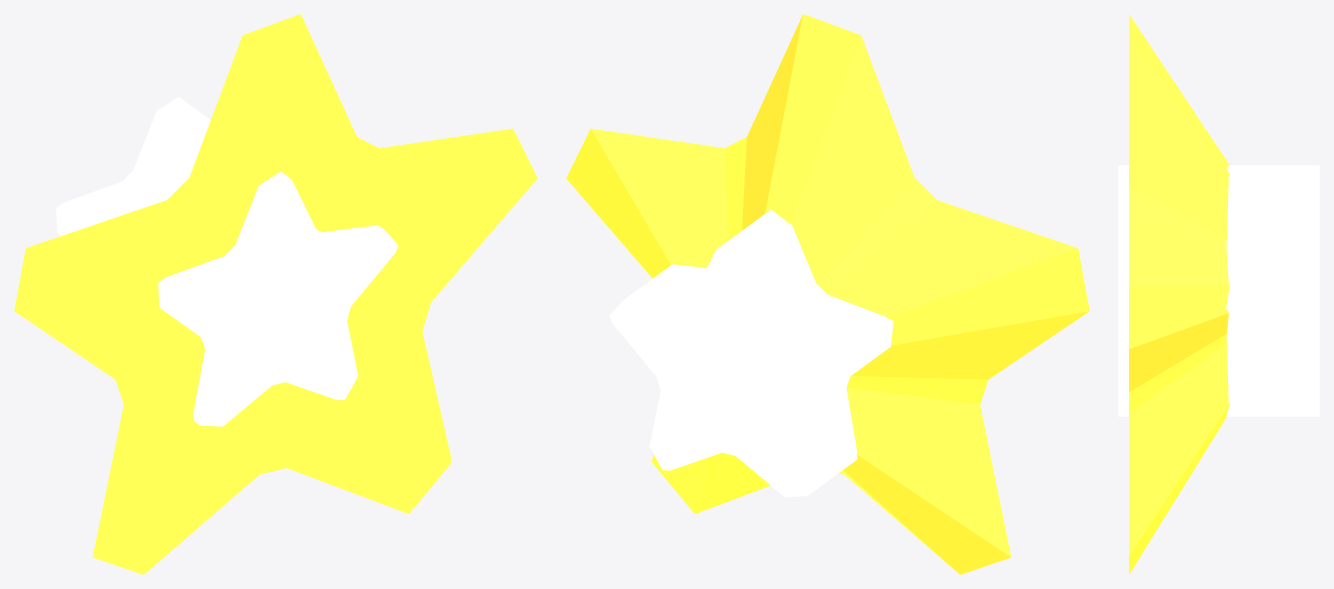
Rendered from star_v2.glb.
3 renders of one model, left to right at view 1: azimuth 30°, elevation 25°; view 2: azimuth 150°, elevation 25°; view 3: azimuth 270°, elevation 25°, orthographic. The views are drawn at different scales.
Parts seen in each view (by area): view 1: Body_FFD447, Core_FFFFFF; view 2: Body_FFD447, Core_FFFFFF; view 3: Body_FFD447, Core_FFFFFF.
Boxes of the visible parts, bbox=[...] form: Body_FFD447: bbox=[14, 14, 537, 574]; Core_FFFFFF: bbox=[56, 97, 398, 426]; Body_FFD447: bbox=[566, 14, 1089, 574]; Core_FFFFFF: bbox=[609, 209, 893, 496]; Body_FFD447: bbox=[1129, 14, 1229, 574]; Core_FFFFFF: bbox=[1118, 165, 1319, 416].
Bounding box in the file's own units: 5.61 × 5.39 × 2.
